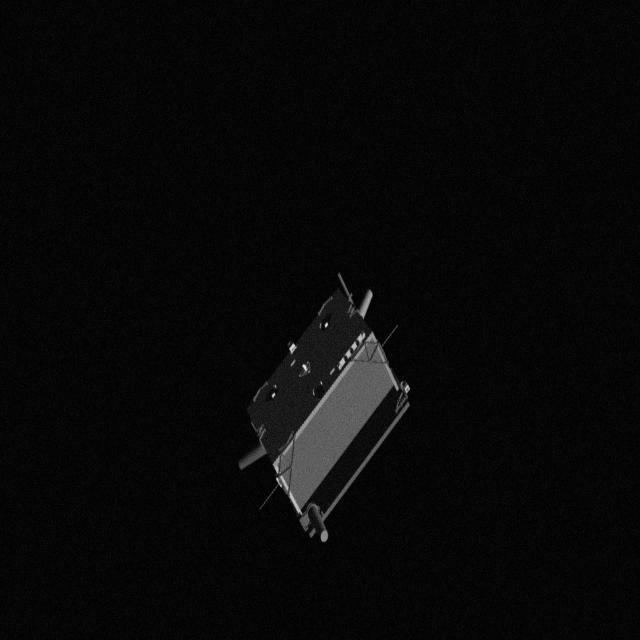satellite: (234, 272, 424, 546)
